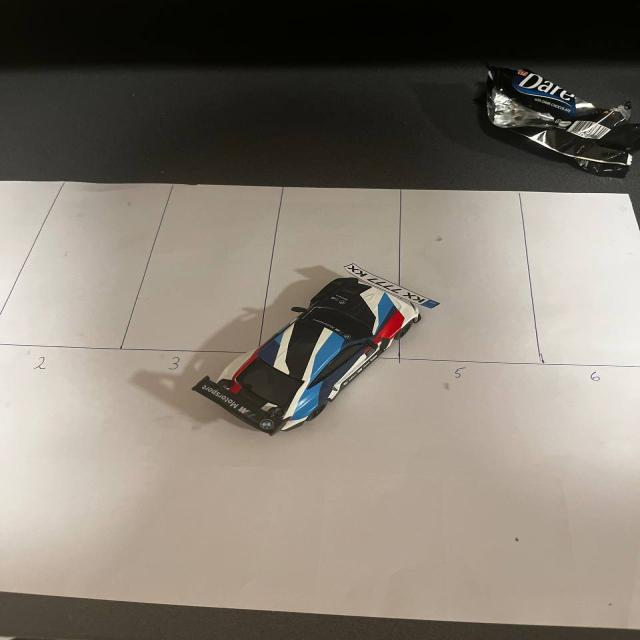cars: (170, 240, 470, 450)
